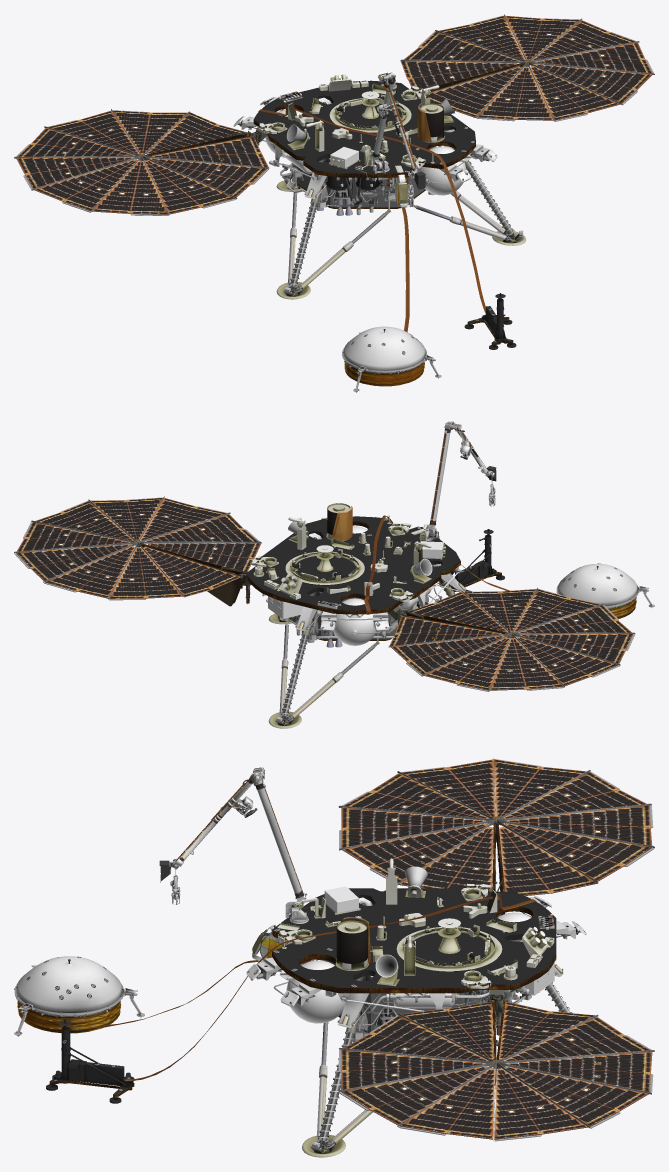
File: insight.glb
The picture shows the model from 3 angles, top to bottom: view 1: azimuth 30°, elevation 25°; view 2: azimuth 150°, elevation 25°; view 3: azimuth 270°, elevation 25°; orthographic projection. The views are drawn at different scales.
Parts seen in each view (by area): view 1: InSight_Deployed, arm_02, arm_01; view 2: InSight_Deployed, arm_02; view 3: InSight_Deployed, arm_02, arm_01.
Part boxes in pixels (box(x1,y1,x2,y2)): InSight_Deployed: box(14, 14, 654, 392); arm_02: box(373, 73, 417, 170); arm_01: box(369, 71, 425, 206); InSight_Deployed: box(14, 423, 654, 728); arm_02: box(429, 421, 488, 525); InSight_Deployed: box(14, 757, 654, 1157); arm_02: box(175, 769, 303, 898); arm_01: box(159, 767, 306, 922).
Bounding box in the file's own units: 6.14 × 2.19 × 4.35.
Materials: 13 (11 with a texture image).
